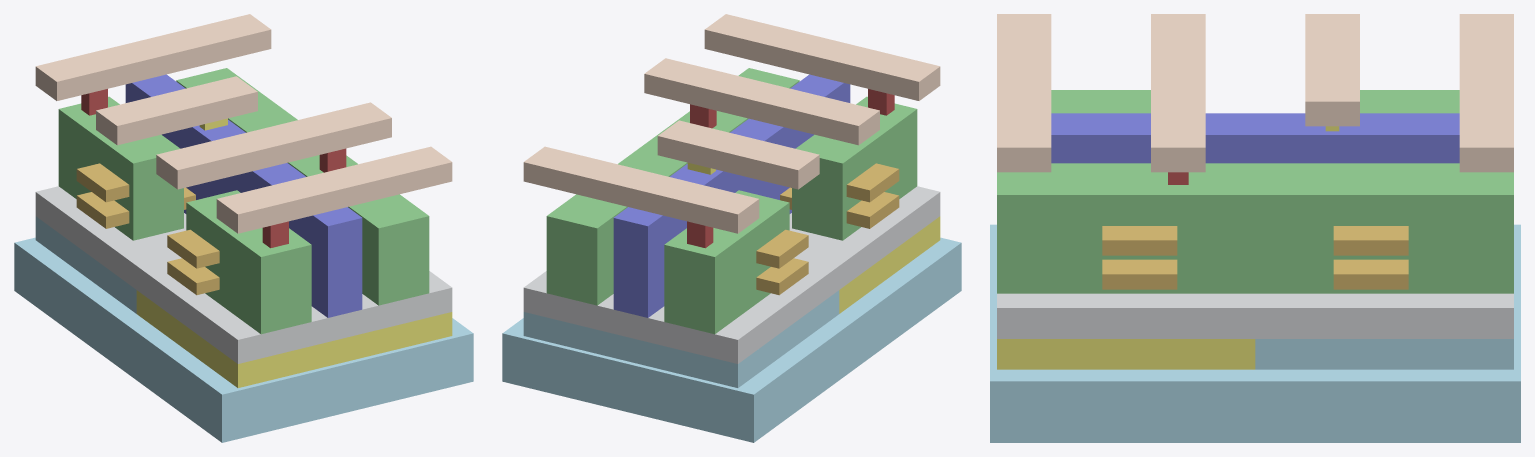
The model's file is show_ns.glb.
3 views of the same model, side by side, from view 1: azimuth 30°, elevation 25°; view 2: azimuth 150°, elevation 25°; view 3: azimuth 270°, elevation 25° (orthographic). The views are drawn at different scales.
Parts seen in each view (by area): view 1: pwell, fox, md_vdd, po, md_out, m0_vdd, m0_gnd, m0_out, md_gnd, nwell, m0_in, pwell_u (+7 smaller); view 2: pwell, fox, md_gnd, po, md_out, m0_gnd, m0_vdd, m0_out, md_vdd, pwell_u, m0_in, nwell (+7 smaller); view 3: md_out, pwell, fox, po, m0_out, m0_gnd, m0_vdd, pwell_u, nwell, m0_in, md_gnd, md_vdd (+4 smaller).
Part boxes in pixels (<box>): pwell: <box>14,237,473,442</box>; fox: <box>35,186,452,363</box>; md_vdd: <box>186,190,311,334</box>; po: <box>125,74,362,317</box>; md_out: <box>176,68,429,305</box>; m0_vdd: <box>216,146,452,233</box>; m0_gnd: <box>35,14,271,100</box>; m0_out: <box>156,102,391,189</box>; md_gnd: <box>58,96,183,240</box>; nwell: <box>136,290,452,387</box>; m0_in: <box>96,76,257,145</box>; pwell_u: <box>35,216,136,313</box>; pwell: <box>502,237,961,442</box>; fox: <box>523,186,940,363</box>; md_gnd: <box>664,190,789,334</box>; po: <box>613,74,850,317</box>; md_out: <box>546,68,799,305</box>; m0_gnd: <box>523,146,759,233</box>; m0_vdd: <box>704,14,940,100</box>; m0_out: <box>644,58,879,145</box>; md_vdd: <box>792,96,917,240</box>; pwell_u: <box>523,290,839,387</box>; m0_in: <box>657,120,819,189</box>; nwell: <box>839,216,940,313</box>; md_out: <box>997,163,1513,293</box>; pwell: <box>990,224,1520,442</box>; fox: <box>997,293,1513,338</box>; po: <box>1051,113,1459,163</box>; m0_out: <box>1151,14,1205,172</box>; m0_gnd: <box>1459,14,1513,172</box>; m0_vdd: <box>997,14,1051,172</box>; pwell_u: <box>1255,339,1513,369</box>; nwell: <box>997,339,1255,369</box>; m0_in: <box>1305,14,1359,126</box>; md_gnd: <box>1360,90,1459,113</box>; md_vdd: <box>1051,90,1150,113</box>.
Size of the model in its own units: 109 by 92 by 156.
